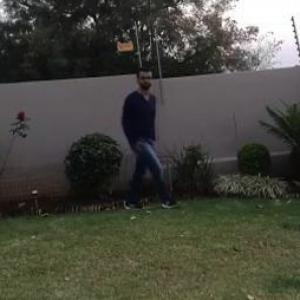follow: (110, 63, 164, 216)
